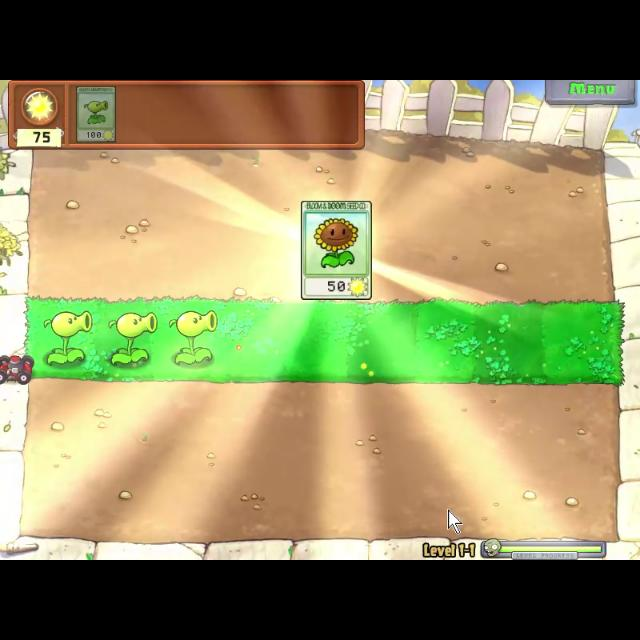Garden: (21, 294, 628, 388)
Menu Button: (546, 80, 636, 104)
Mower: (1, 352, 36, 386)
Peashooter: (73, 84, 115, 142)
Peashooter Seed: (165, 309, 222, 369), (105, 308, 159, 369), (42, 306, 94, 368)
Seed Panel: (6, 80, 367, 152)
